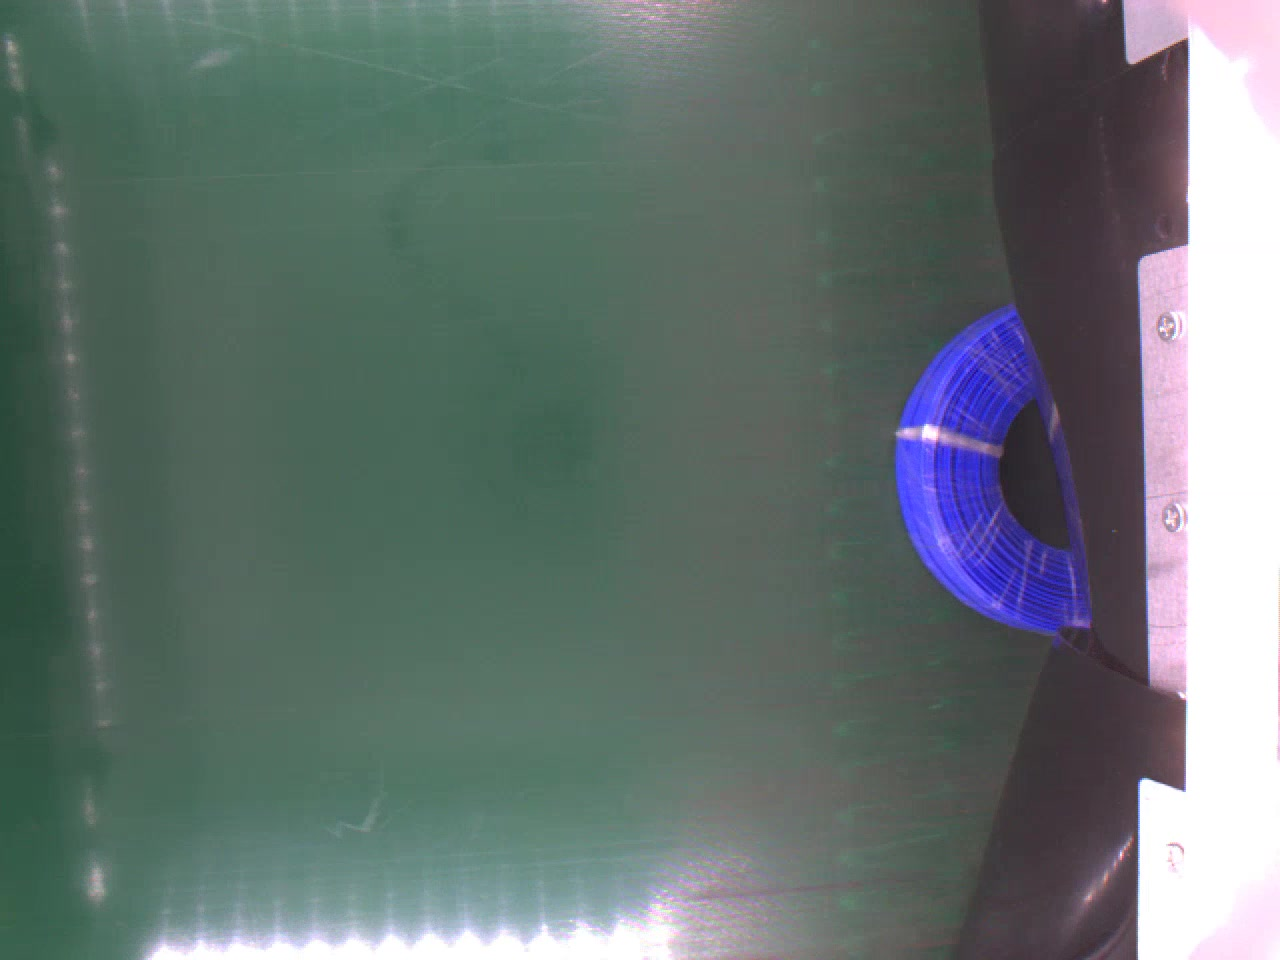blue: (894, 305, 1085, 637)
